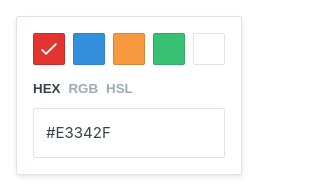
ColorPicker › Color code › displays the code in the right mode when changing mode
Click the button with class "color-mode-hsl": (119, 88) [106, 80, 133, 96]
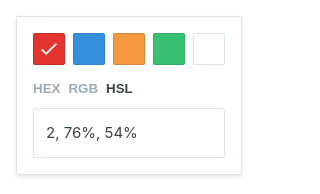
Expected: the text with class "color-code" reads "2, 76%, 54%", [46, 122, 138, 142]
